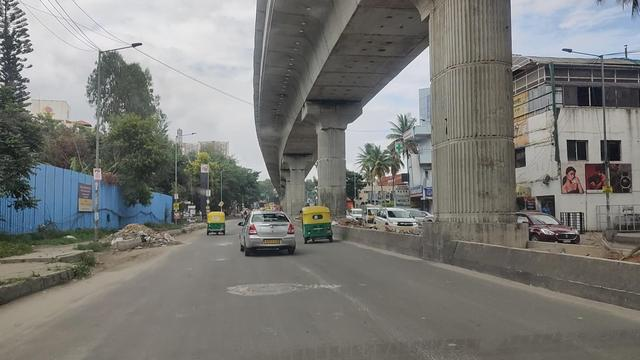LMV: (238, 209, 296, 257), (301, 206, 333, 243), (206, 211, 227, 233)
RoadDamages: (396, 316, 467, 359), (220, 278, 346, 300)
